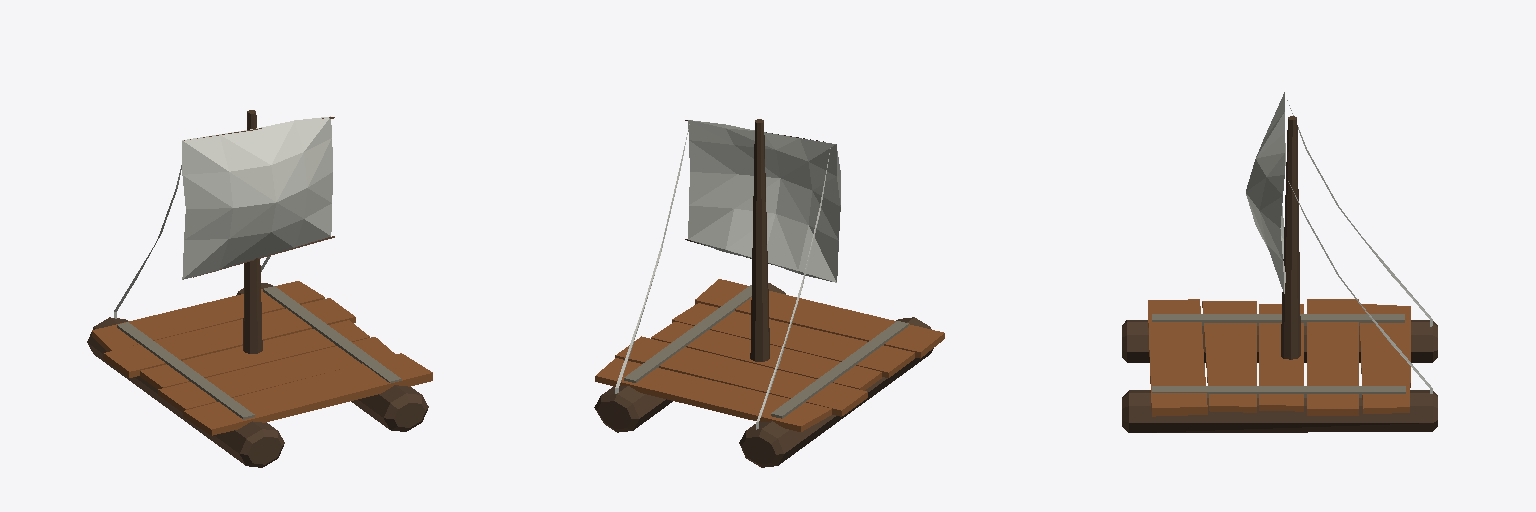
3 renders of one model, left to right at view 1: azimuth 30°, elevation 25°; view 2: azimuth 150°, elevation 25°; view 3: azimuth 270°, elevation 25°, orthographic.
Visible parts, largest first — view 1: Raft_Cylinder, Raft.002_Cylinder.002, Raft_Cylinder.001; view 2: Raft_Cylinder, Raft.002_Cylinder.002, Raft_Cylinder.001; view 3: Raft_Cylinder, Raft.002_Cylinder.002, Raft_Cylinder.001.
Boxes of the visible parts, box(x1,y1,x2,y2) form: Raft_Cylinder: box(87, 281, 432, 467); Raft.002_Cylinder.002: box(114, 116, 332, 318); Raft_Cylinder.001: box(184, 110, 334, 353); Raft_Cylinder: box(594, 279, 944, 467); Raft.002_Cylinder.002: box(615, 120, 840, 429); Raft_Cylinder.001: box(685, 119, 823, 361); Raft_Cylinder: box(1122, 299, 1437, 432); Raft.002_Cylinder.002: box(1246, 92, 1432, 393); Raft_Cylinder.001: box(1281, 116, 1300, 359).
Bounding box in the file's own units: 4.16 × 4.88 × 5.04.
1 materials, 1 textured.